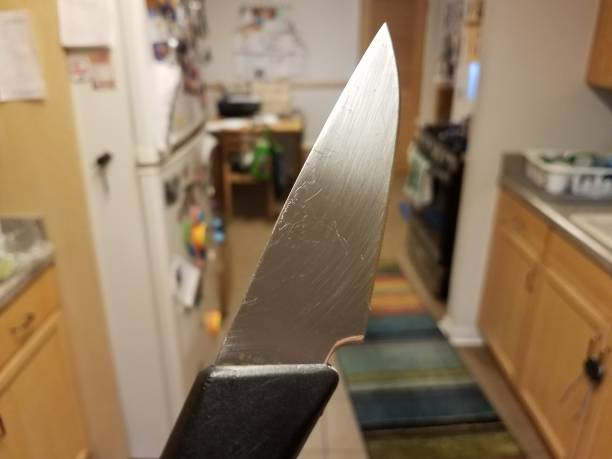knife: (153, 18, 403, 459)
